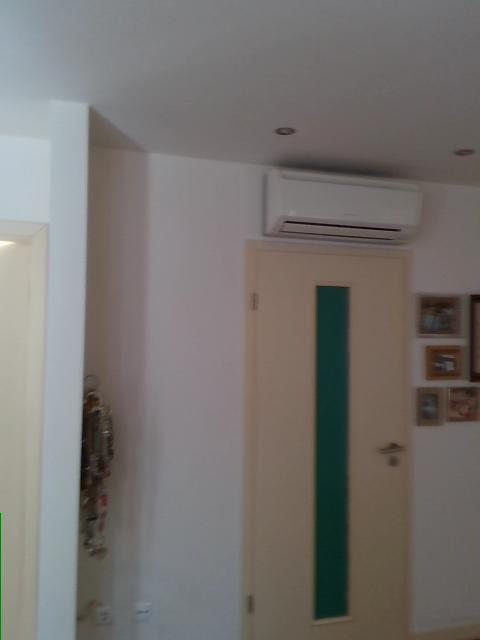closed_door: (242, 236, 417, 639)
